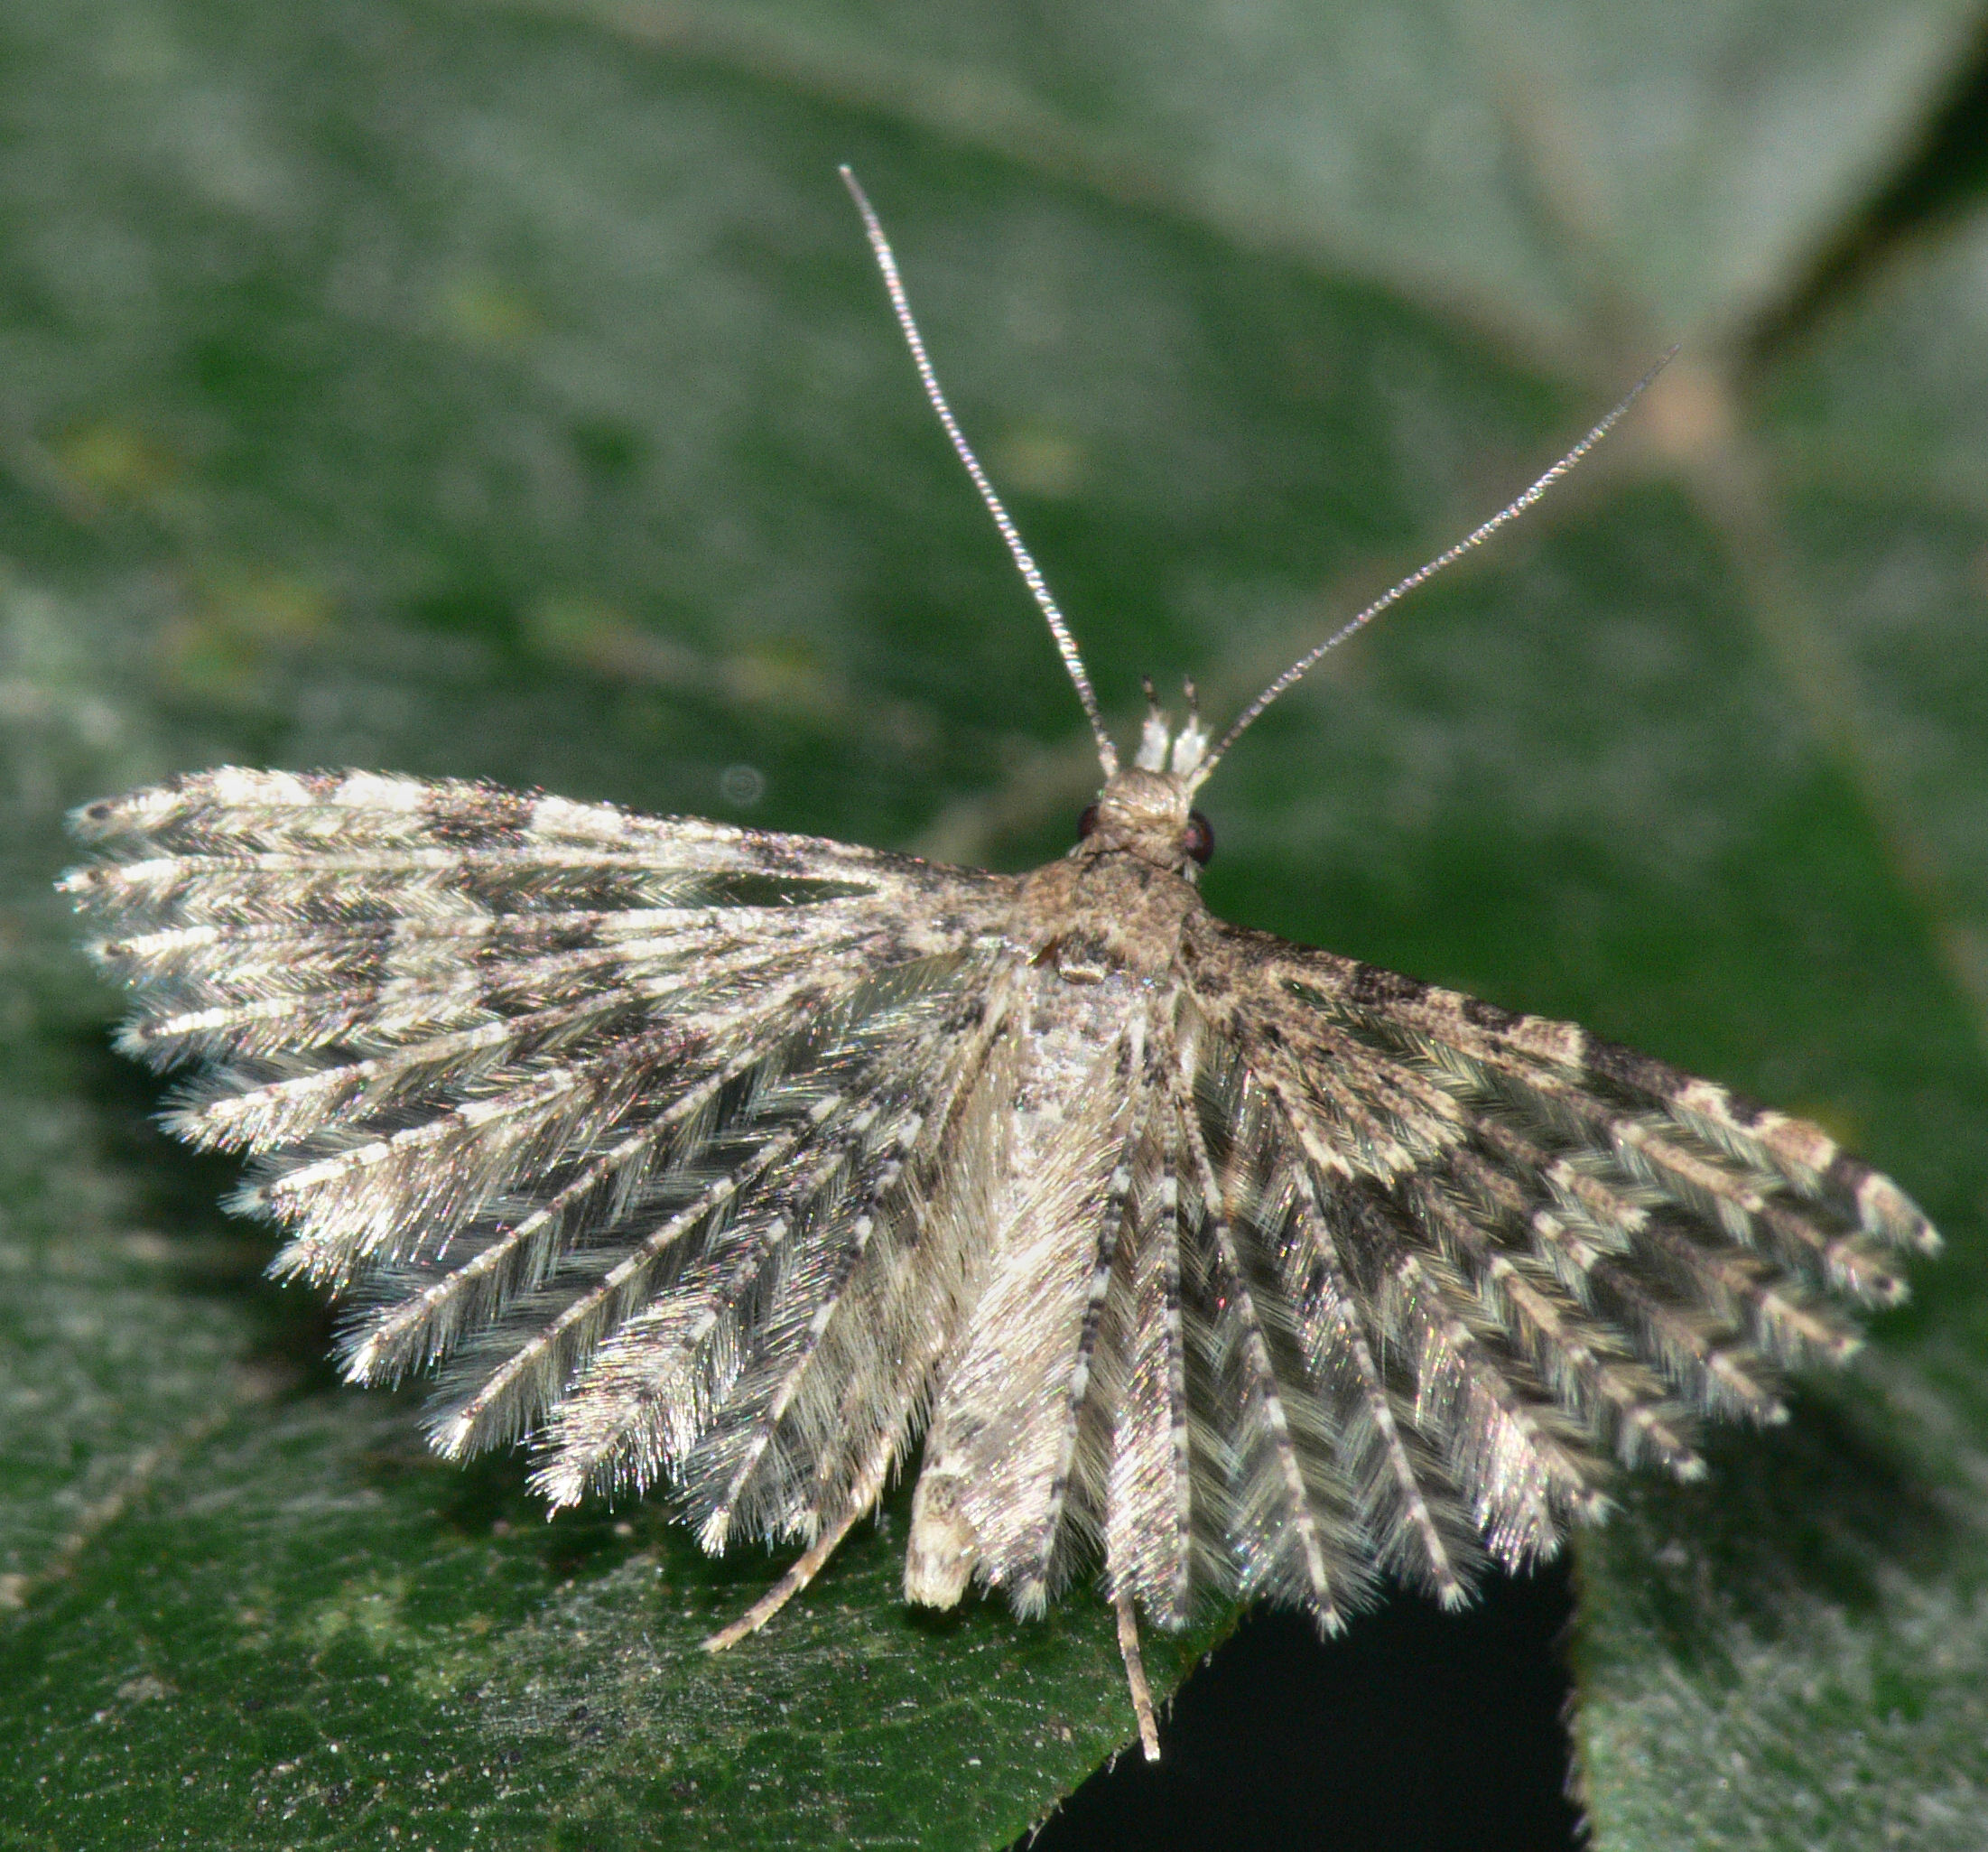Alucitidae: (71, 143, 1960, 1761)
moth: (70, 141, 1958, 1760)
